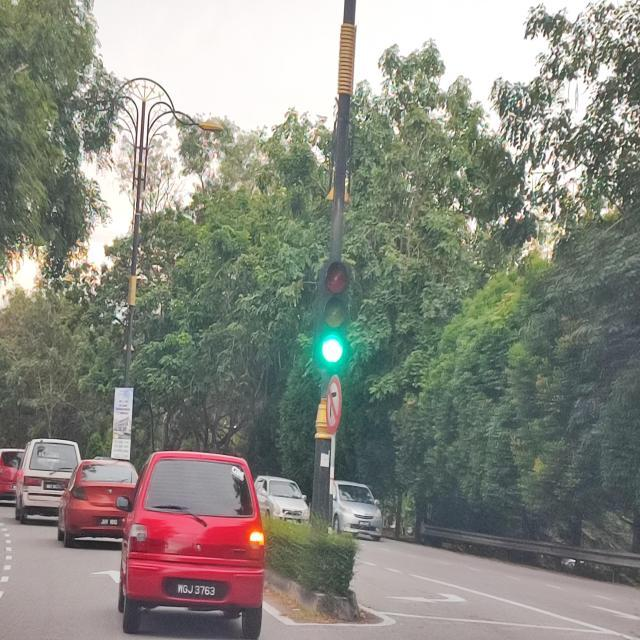Green: (316, 262, 351, 371)
